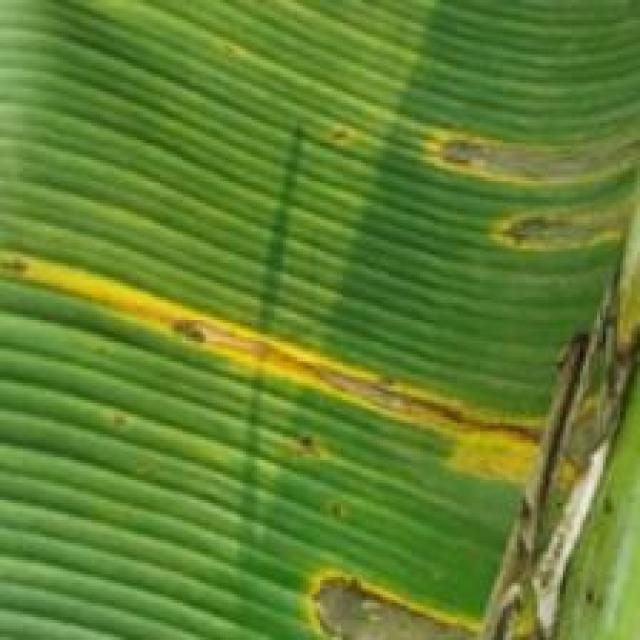Downey_mildrew: (3, 240, 640, 503), (409, 100, 640, 286), (294, 559, 512, 640)
